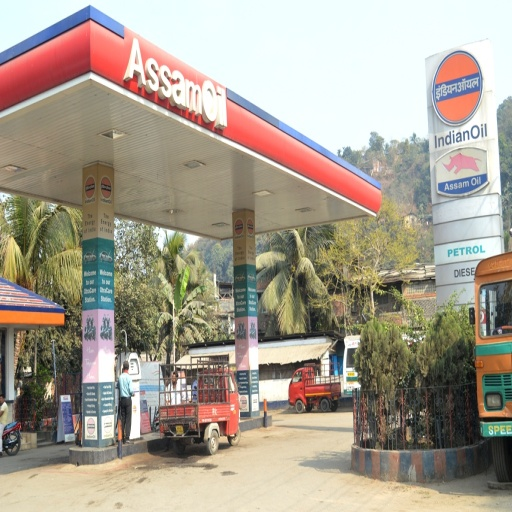roof: (1, 6, 381, 250)
